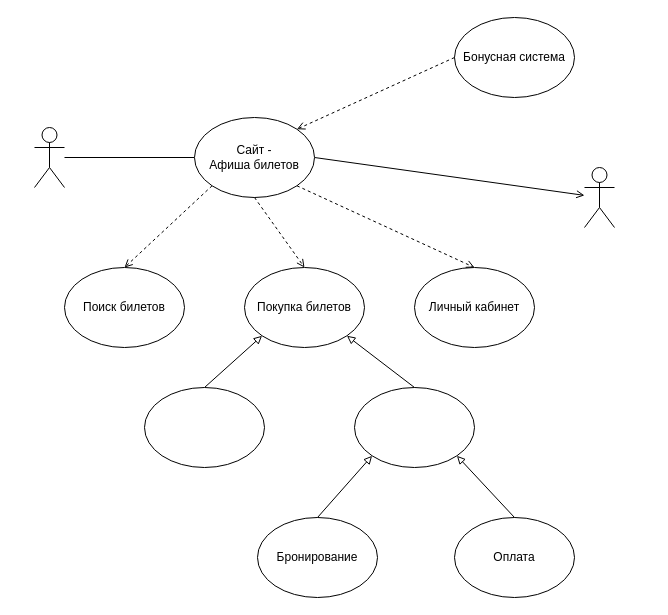
Some shapes in this 668 by 615 pixel diagram are drawn without their labels. Each missing label, with the centre of its shape:
"Выбор места" belongs at point 204,427.
"Корзина" belongs at point 414,427.
"Покупатель" belongs at point 49,157.
"Продавец билетов" belongs at point 599,197.
